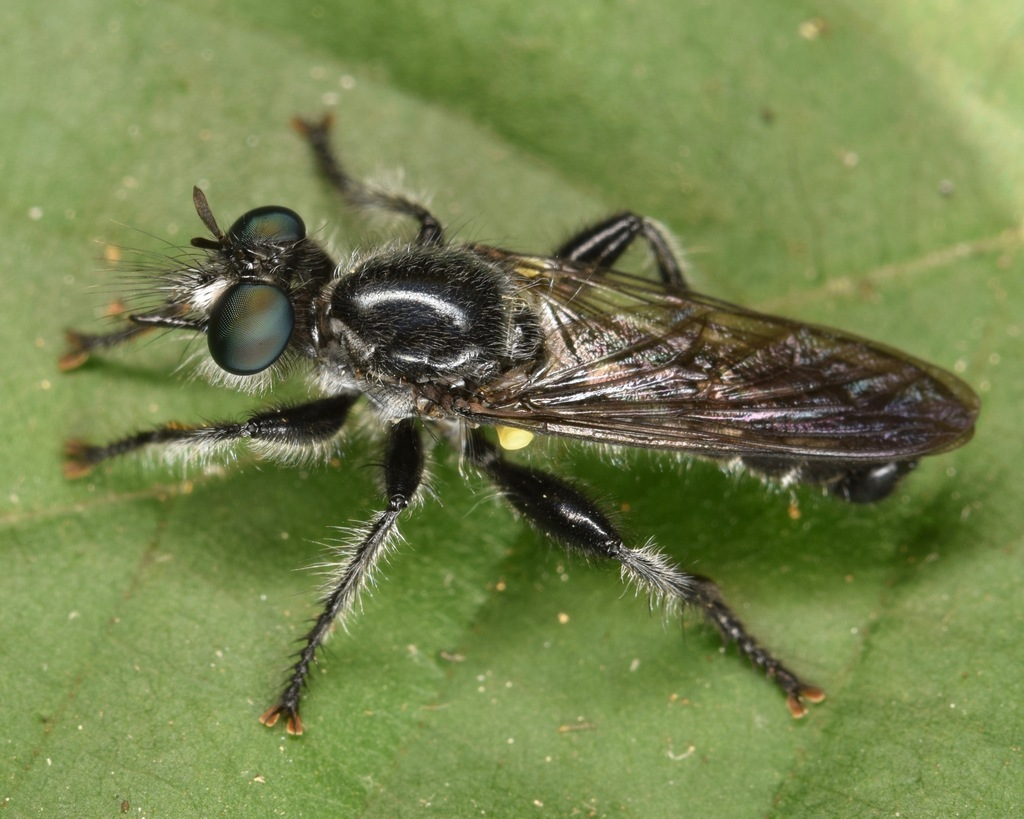not_bumblebee: (58, 105, 984, 738)
